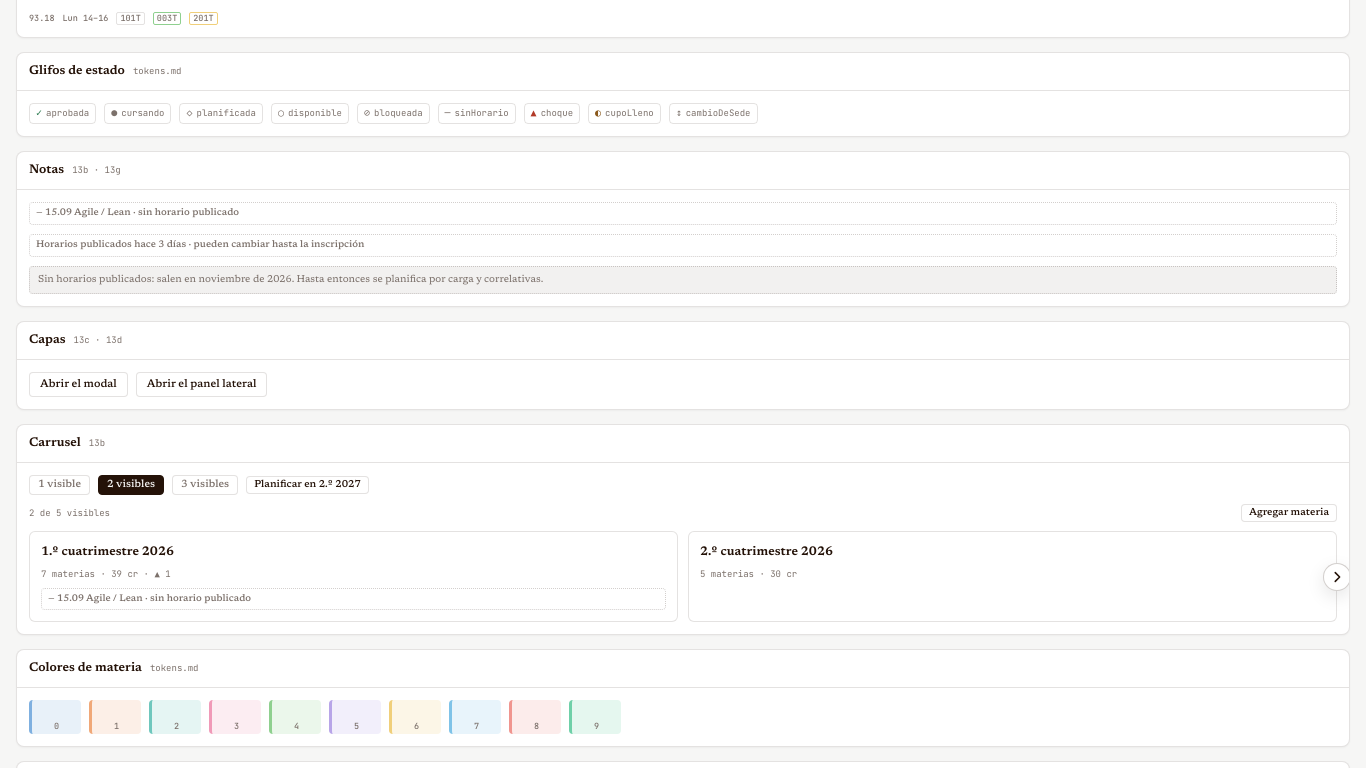
Test: Muestrario › abre y cierra el modal de 13d
The width and height of the screenshot is (1366, 768).
(page scrolled)
Click the button "Abrir el modal": (78, 384) x1=29 y1=372 x2=128 y2=397
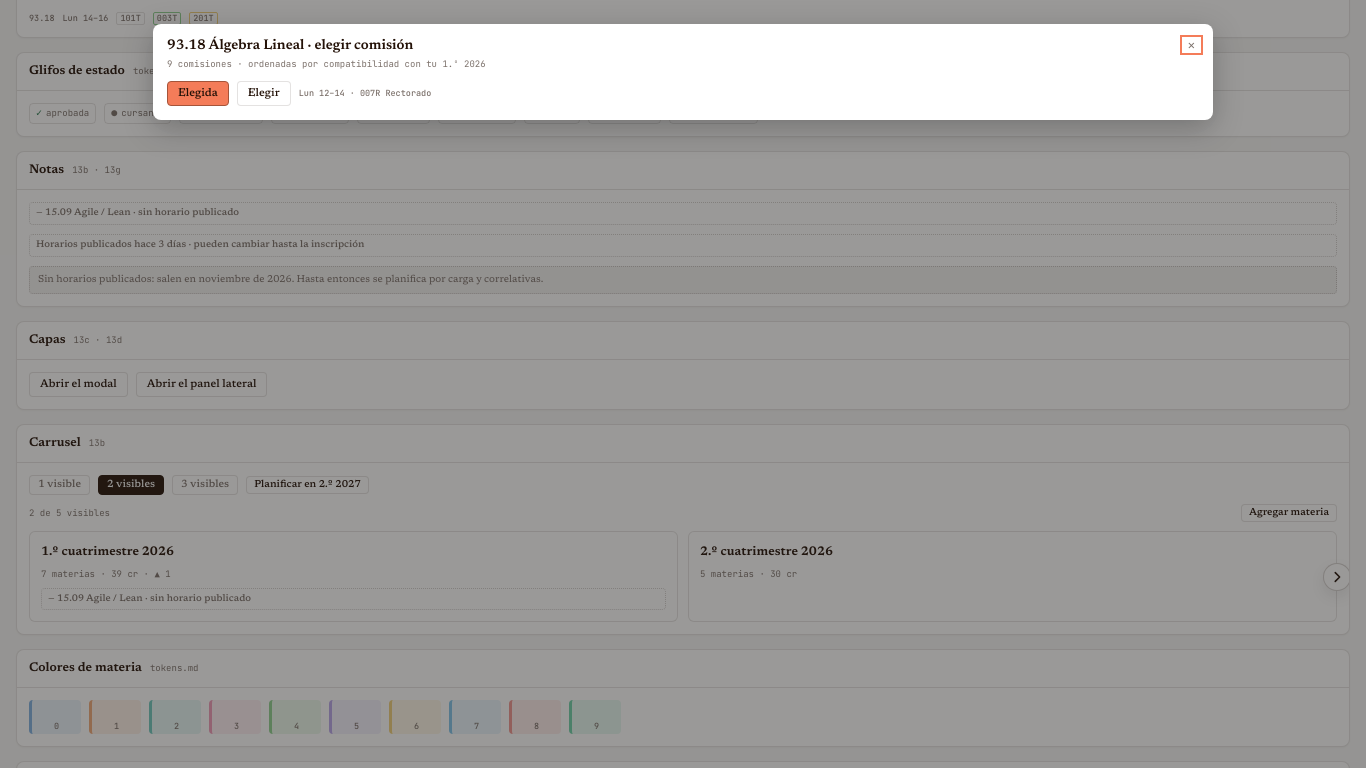
Now the dialog "93.18 Álgebra Lineal · elegir comisión" is shown, box x1=153 y1=24 x2=1213 y2=120
Press Escape
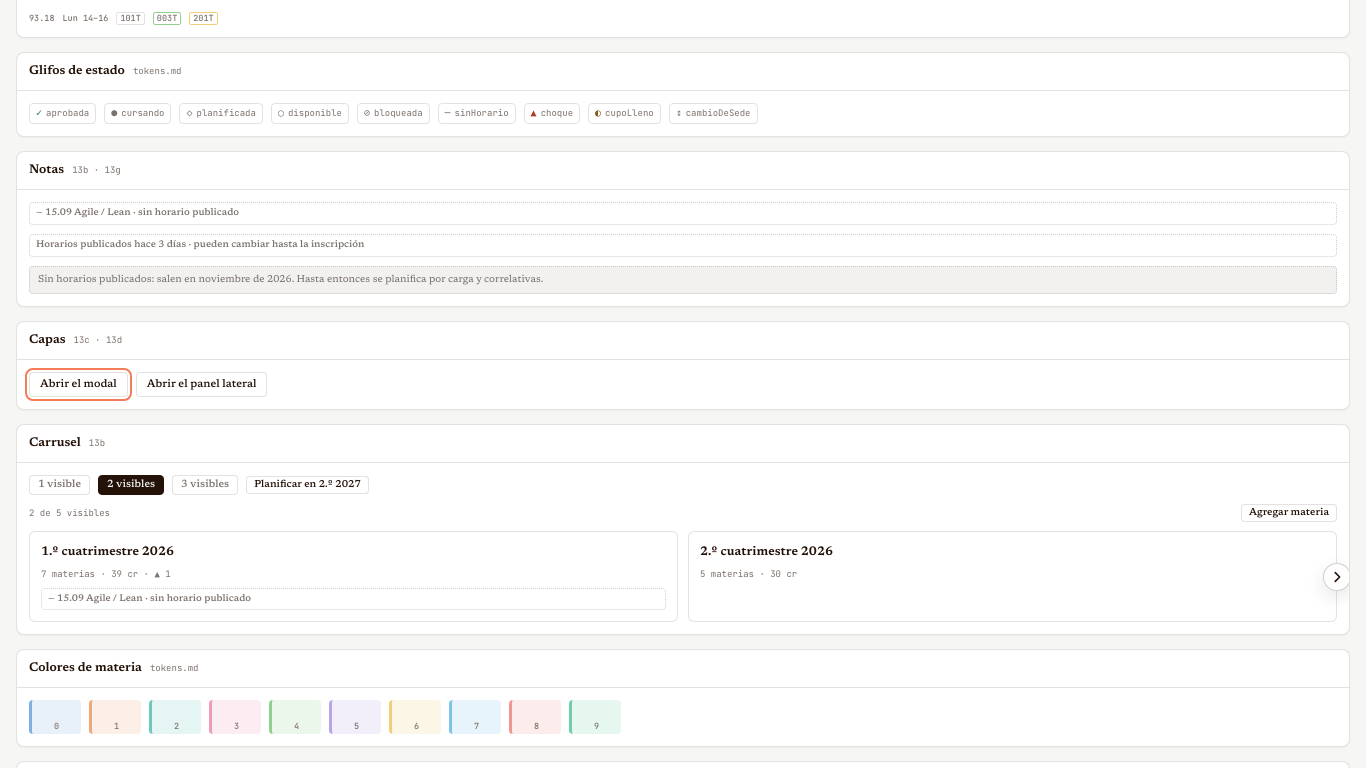
Now the dialog is gone
